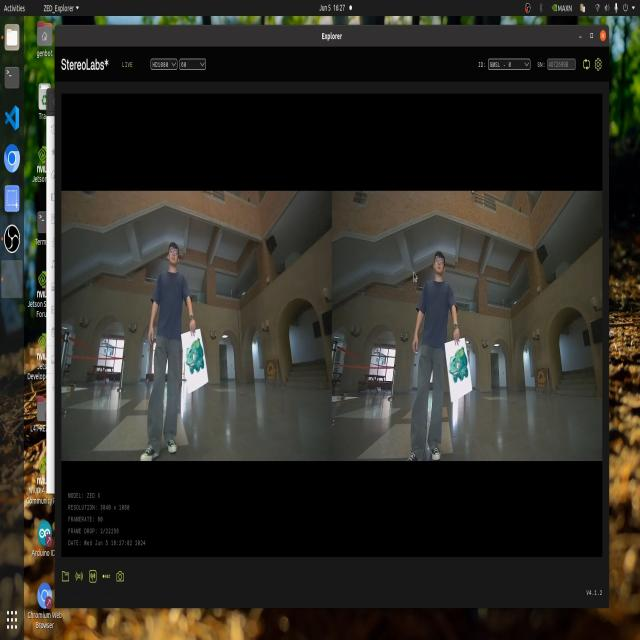green: (176, 338, 203, 385), (445, 340, 471, 384)
